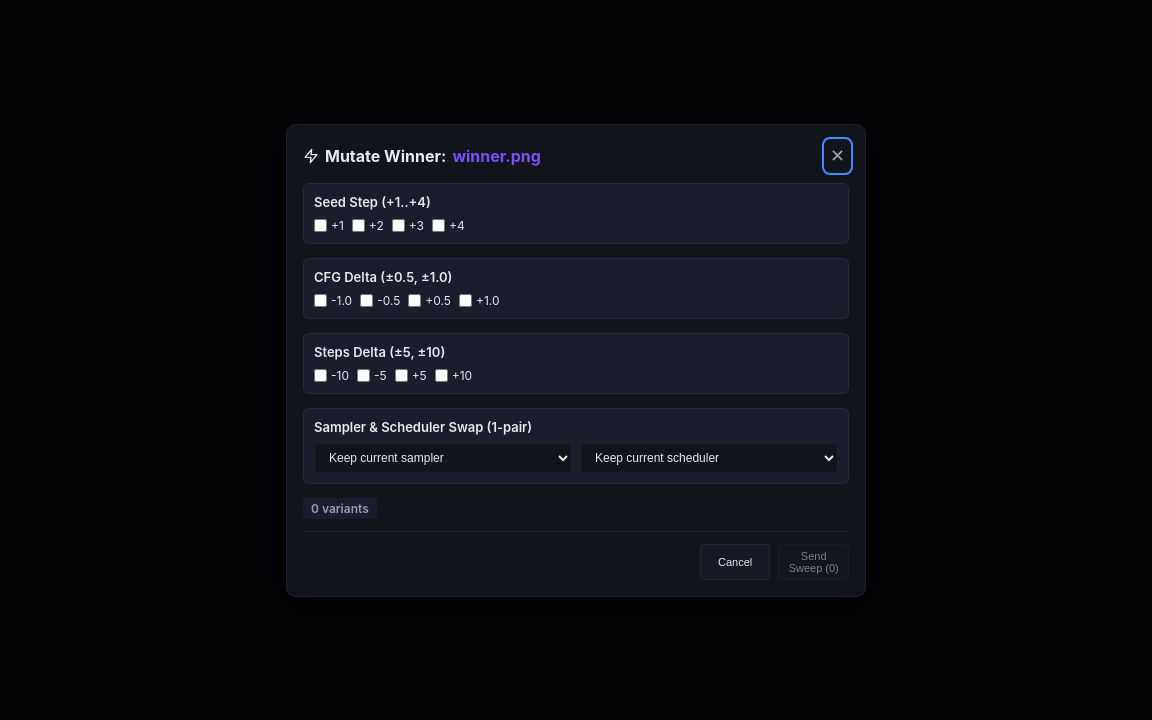
Test: MutationPopover sweep › for seed+1,+2 and CFG +1 the table shows rows 101/6.5 and 102/6.5
Click the checkbox with test id "checkbox-seed-1" at (320, 225), box [314,218,327,232]
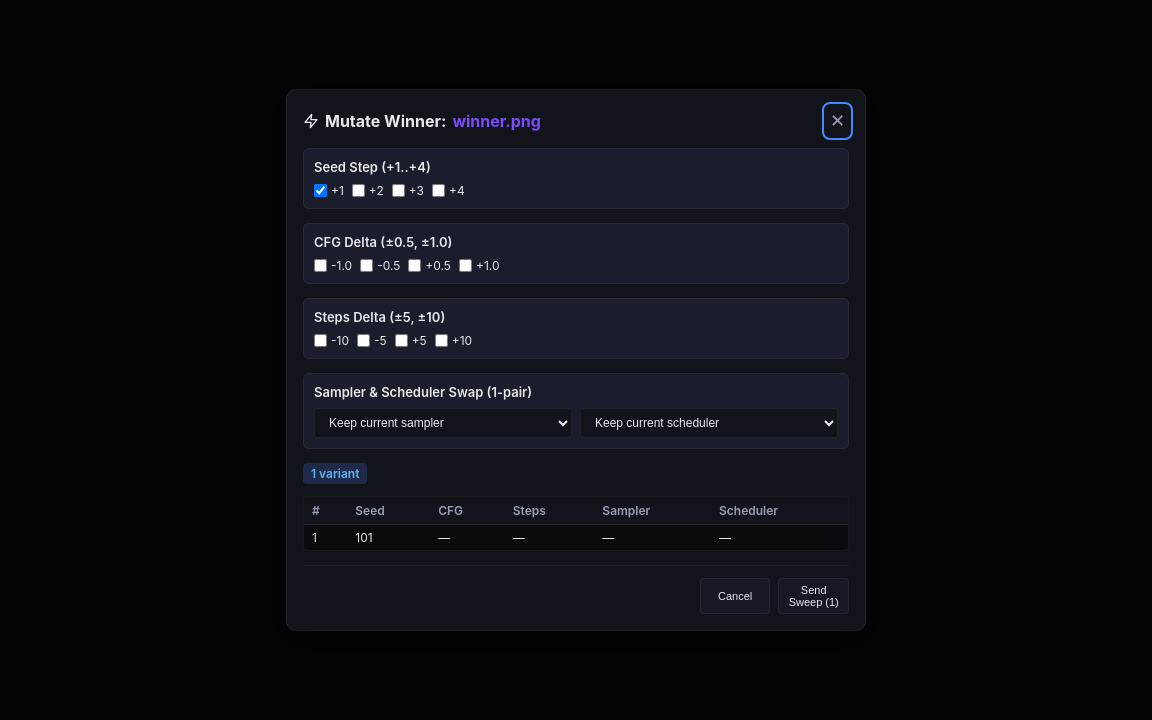
Click the checkbox with test id "checkbox-seed-2" at (358, 190), box [352,184,365,197]
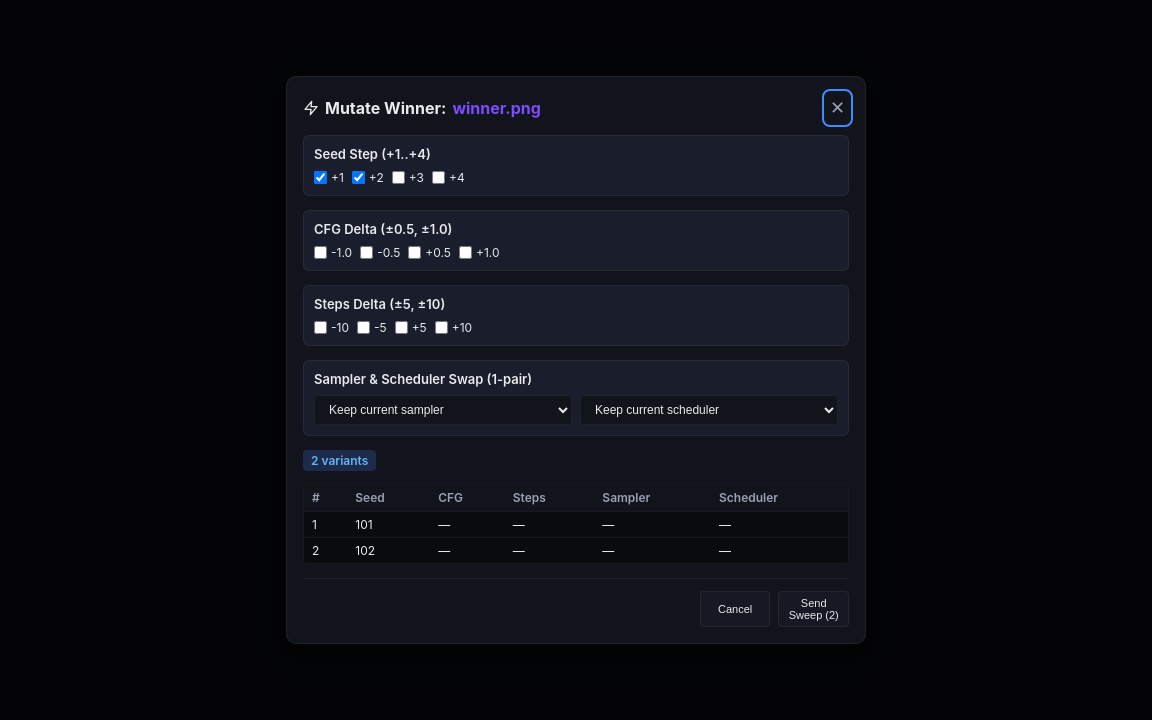
Click the checkbox with test id "checkbox-cfg-plus-1" at (466, 252), box [459,246,472,259]
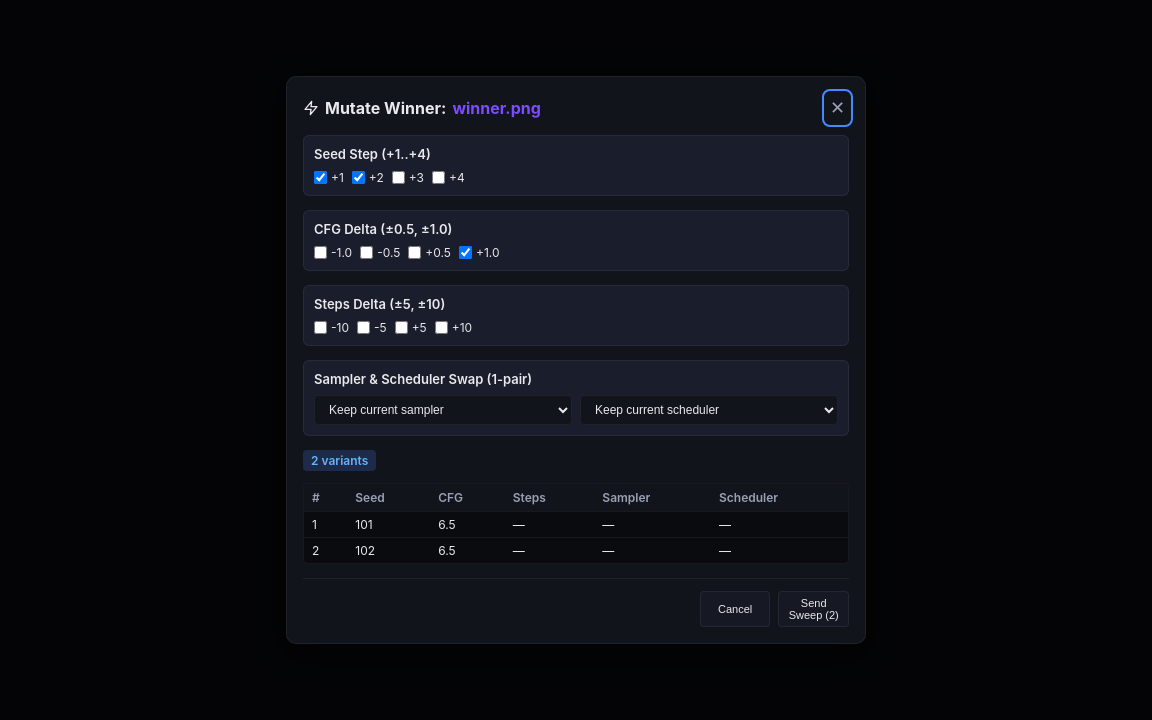
Now the row with test id "sweep-preview-row-1" shows "101", box [355,517,373,532]
Now the row with test id "sweep-preview-row-2" shows "102", box [355,543,375,558]
Now the row with test id "sweep-preview-row-1" shows "6.5", box [438,517,456,532]
